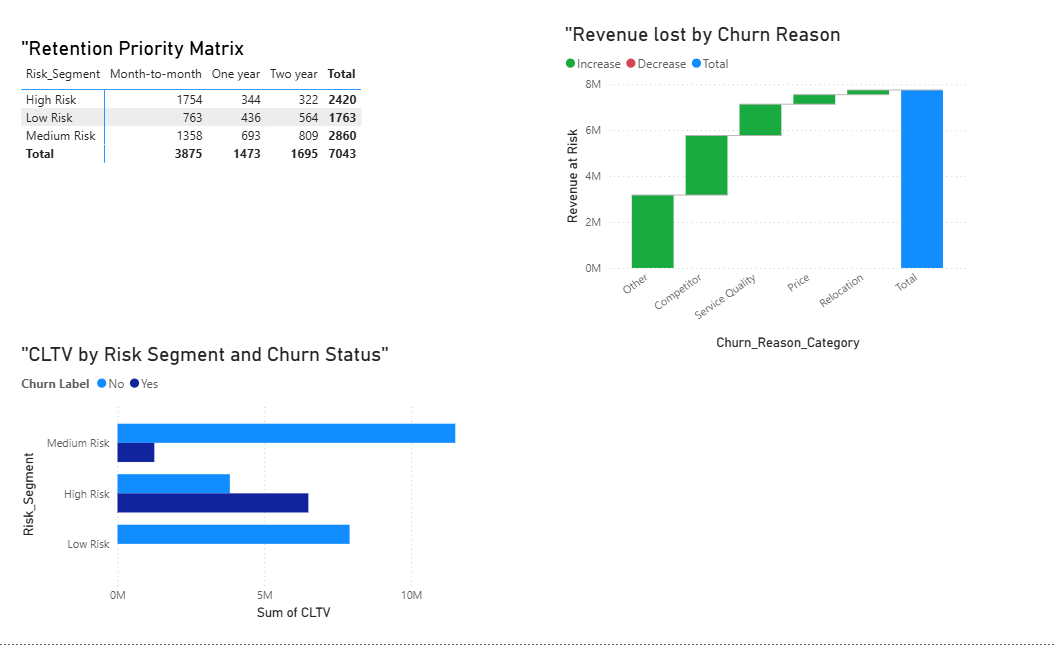

This screenshot's page, from the dashboard's own definition file:
{"tool":"powerbi","page":{"name":"Page 2","canvas":[1280,720],"ordinal":1},"visuals":[{"type":"pivotTable","title":"\"Retention Priority Matrix","fields":{"Rows":["Telecom_churn.Risk_Segment"],"Columns":["Telecom_churn.Contract"],"Values":["CountNonNull(Telecom_churn.CustomerID)"]},"box":[20.6,53.5,403.4,209.9],"z":0},{"type":"waterfallChart","title":"\"Revenue lost by Churn Reason","fields":{"Category":["Telecom_churn.Churn_Reason_Category"],"Y":["Telecom_churn.Revenue at Risk"]},"box":[617.5,38.4,450.1,363.6],"z":1000},{"type":"clusteredBarChart","title":"\"CLTV by Risk Segment and Churn Status\"","fields":{"Y":["Sum(Telecom_churn.CLTV)"],"Series":["Telecom_churn.Churn Label"],"Category":["Telecom_churn.Risk_Segment"]},"box":[20.6,389.7,514.6,308.7],"z":1001}]}

Visuals, with their boxes on the page's 1280x720 design canvas (x1, y1, x2, y2). These are canvas units, not pixel positions in the 1055x645 screenshot, which may show the page scaled, cropped or inside an application window:
""Retention Priority Matrix" pivotTable: select_region(21, 54, 424, 263)
""Revenue lost by Churn Reason" waterfallChart: select_region(618, 38, 1068, 402)
""CLTV by Risk Segment and Churn Status"" clusteredBarChart: select_region(21, 390, 535, 698)
